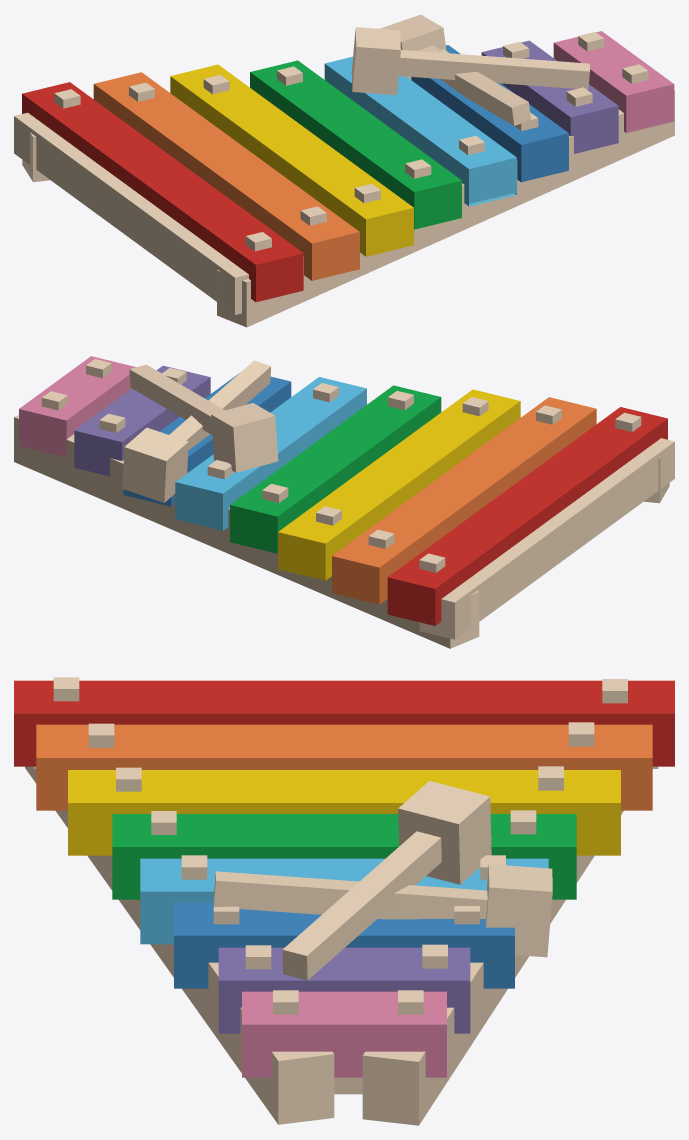
File: Toy_003_Nathan_001_Xylophone.fbx
3 renders of one model, top to bottom at view 1: azimuth 30°, elevation 25°; view 2: azimuth 150°, elevation 25°; view 3: azimuth 270°, elevation 25°, orthographic. The views are drawn at different scales.
Parts seen in each view (by area): view 1: Xylophone; view 2: Xylophone; view 3: Xylophone.
Boxes of the visible parts, bbox=[...] form: Xylophone: bbox=[14, 14, 674, 327]; Xylophone: bbox=[14, 356, 674, 648]; Xylophone: bbox=[14, 677, 674, 1125].
Bounding box in the file's own units: 50.35 × 10.35 × 38.45.
